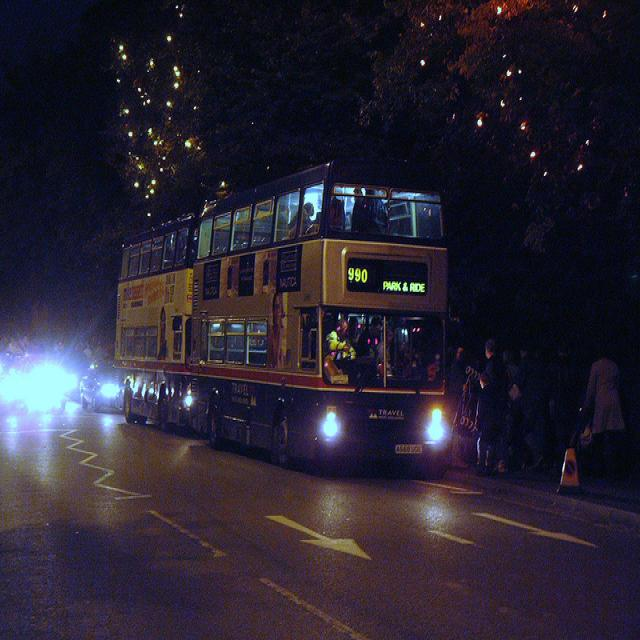Bus: (110, 168, 462, 503)
People: (574, 335, 640, 483), (479, 320, 519, 471), (540, 334, 570, 497), (391, 321, 443, 387), (451, 318, 478, 436), (332, 170, 378, 234), (326, 305, 355, 405), (516, 319, 533, 472), (360, 306, 393, 379), (292, 171, 319, 234)
car: (0, 344, 85, 424), (80, 343, 126, 436)
